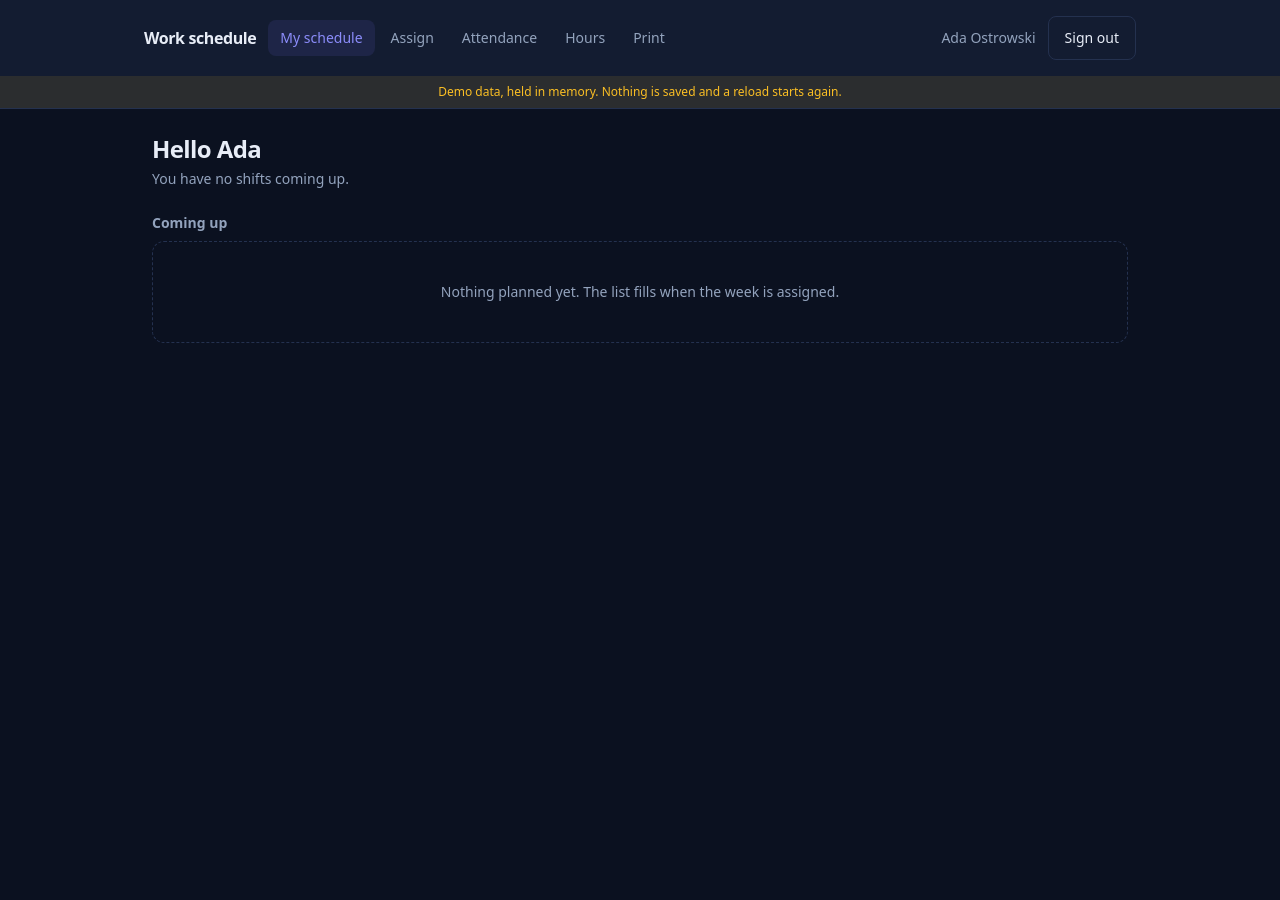
assigning somebody › shows the new name on the card and closes the open place
This screenshot has width=1280, height=900.
Step 1. Click the link "Assign" → (412, 38), box [391,28,434,47]
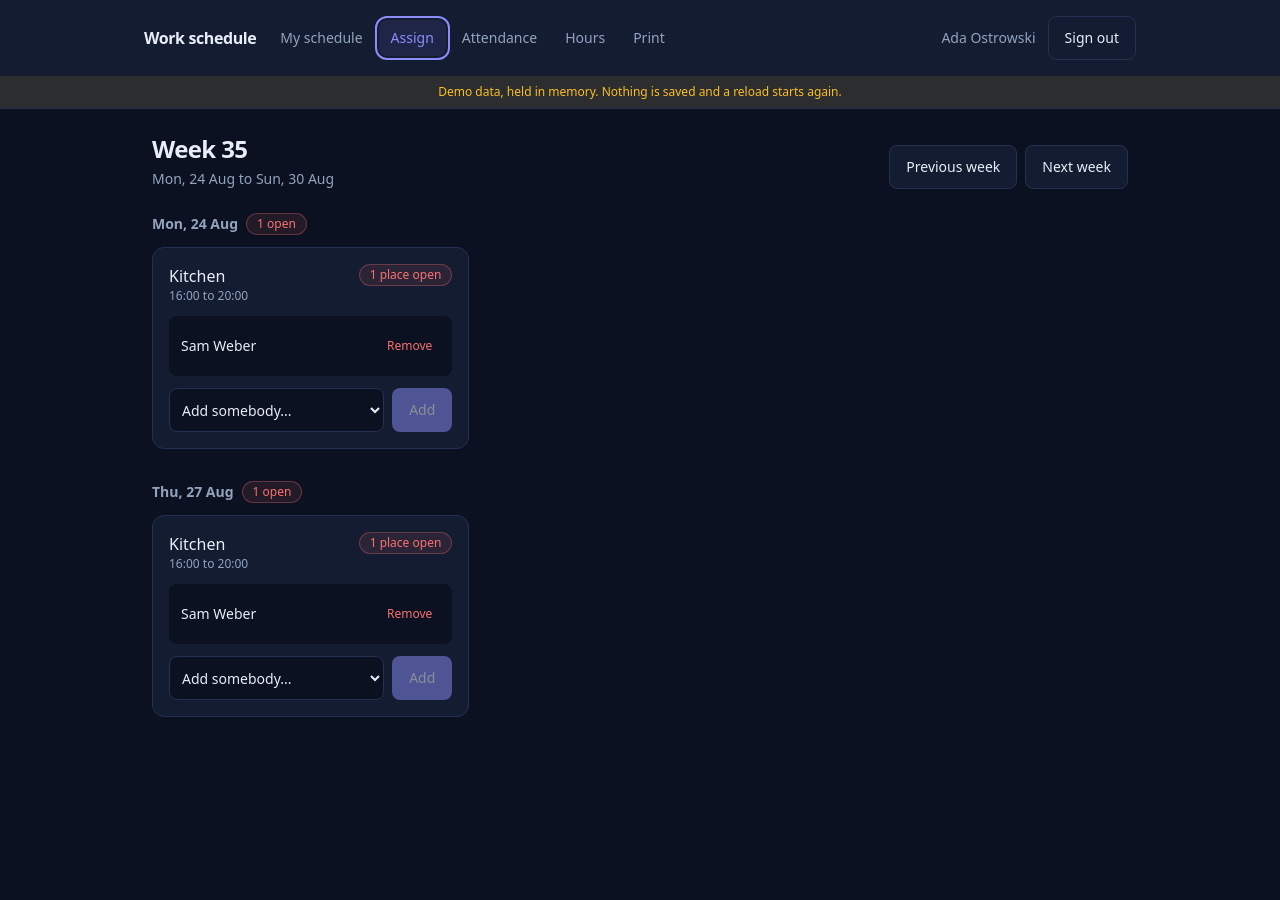
expect the text "Oli Novak" is not shown: met
expect the text "1 place open" below "Thu, 27 Aug" is shown: met, box [359,532,452,554]
Step 2. Select "Oli Novak (8 h behind)" in the dropdown named "Add somebody to Kitchen on Thu, 27 Aug" → (277, 678), box [169,656,384,700]
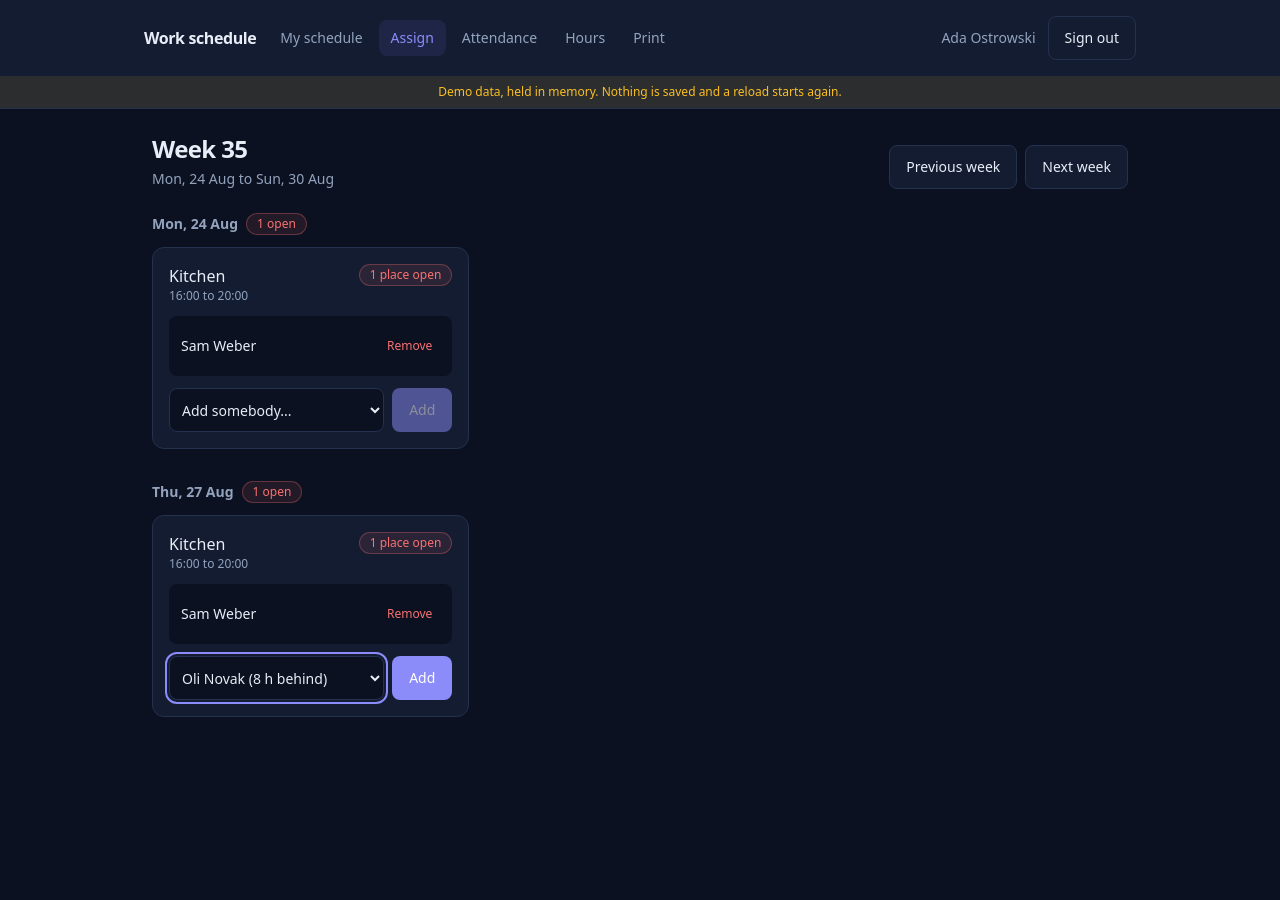
Step 3. Click the button "Add" below "Thu, 27 Aug" → (422, 678), box [392,656,452,700]
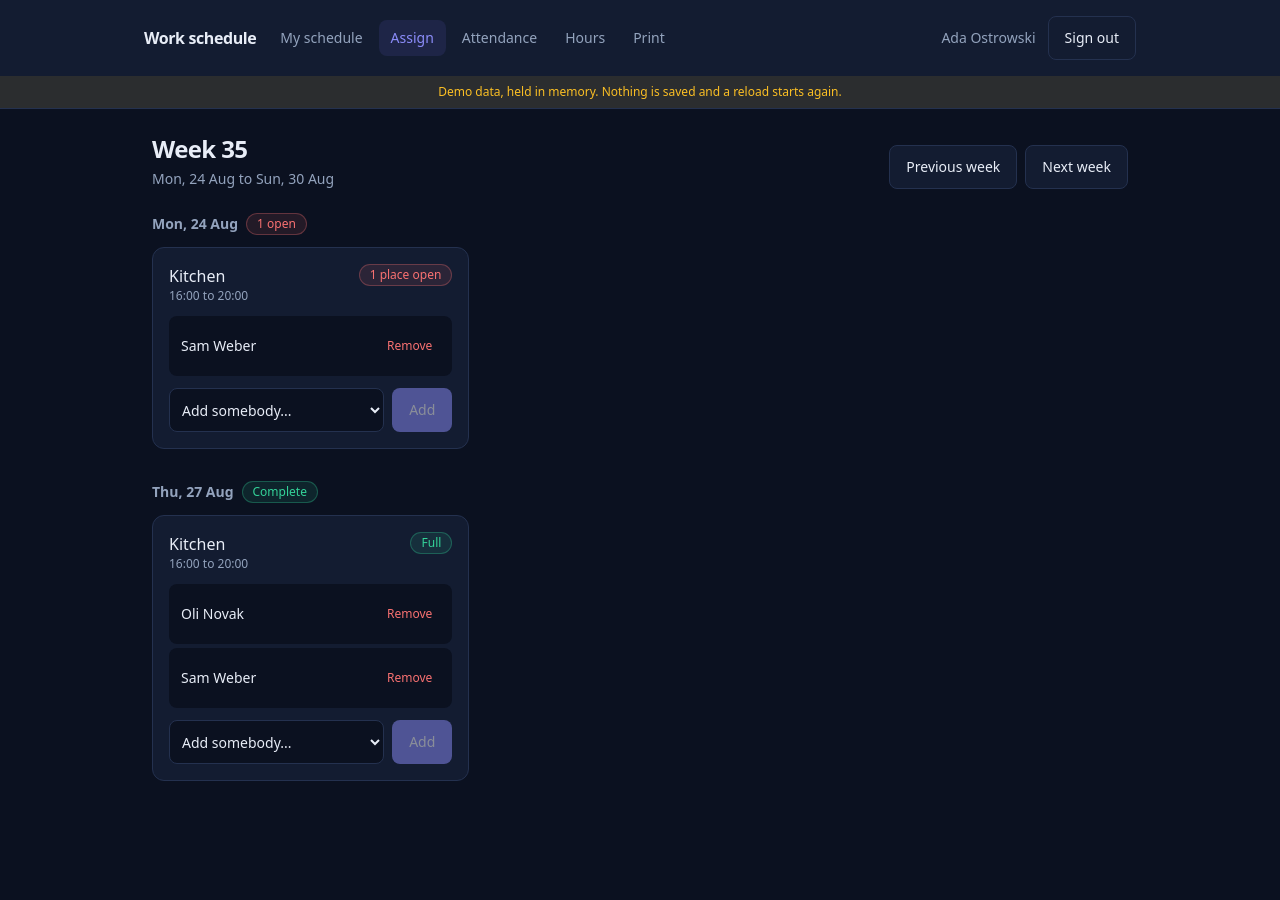
expect the text "Full" is shown: met, box [410,532,452,554]
expect the text "Oli Novak" is shown: met, box [181,604,244,624]
